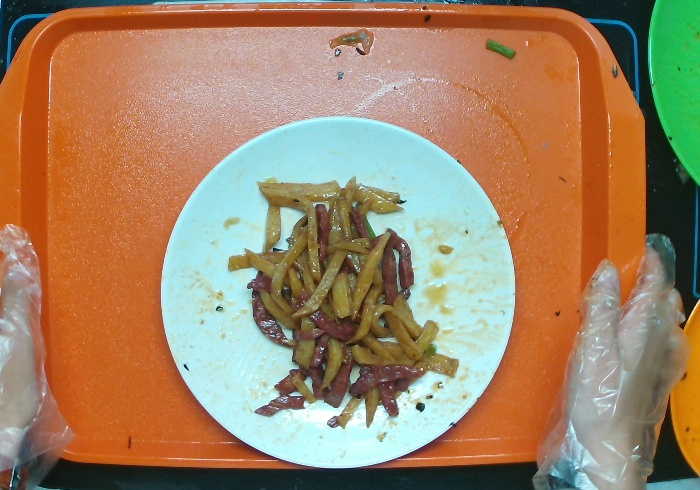HZYJPL-Bai_Se_Yuan_Pan: (159, 115, 521, 469)
